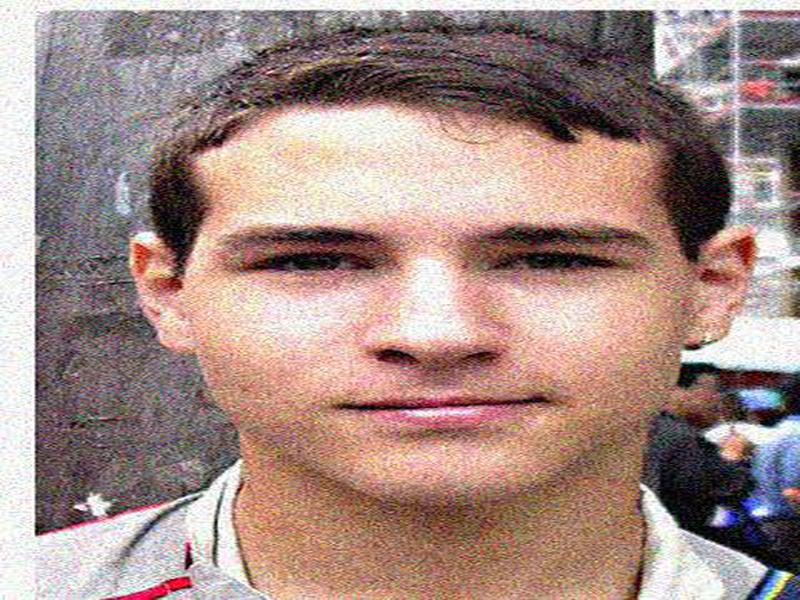without_mask: (183, 123, 678, 506)
